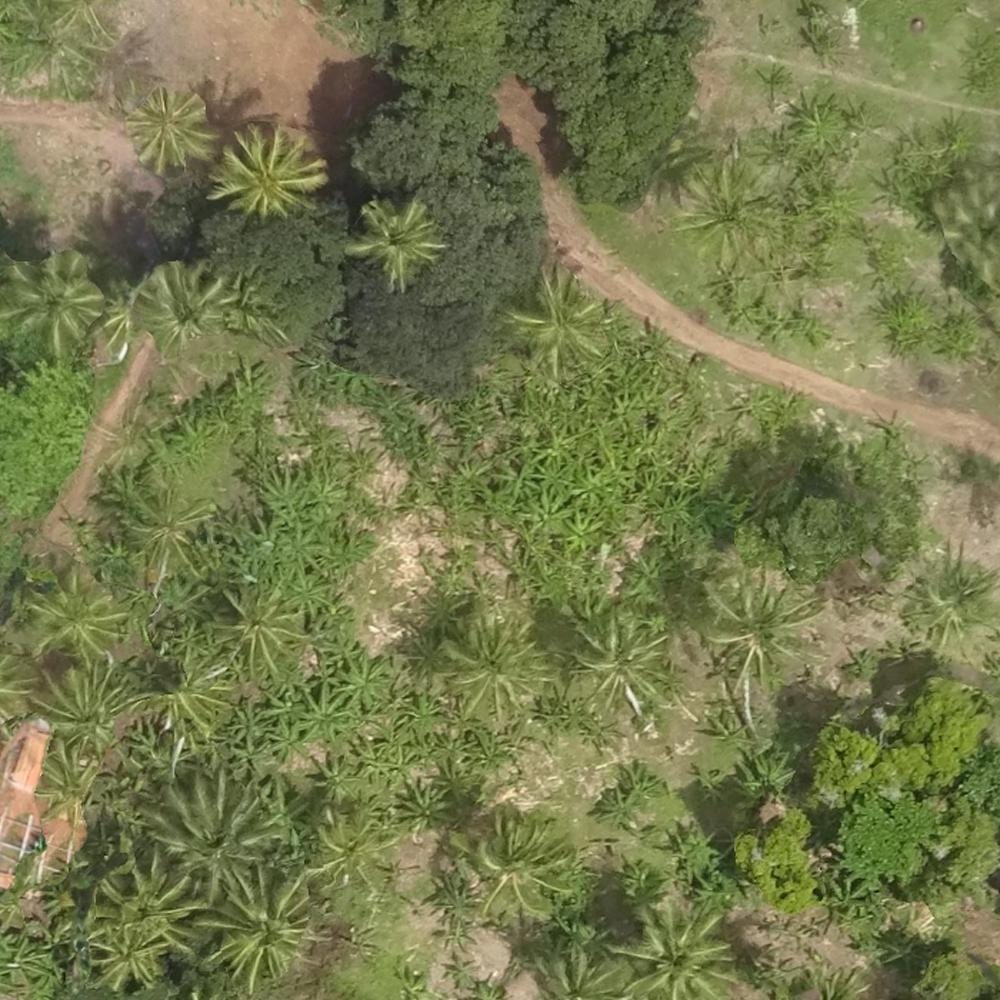Palm: (145, 773, 269, 895), (194, 874, 319, 985), (695, 574, 814, 683), (462, 814, 575, 924), (615, 900, 738, 998), (436, 612, 540, 718), (504, 264, 610, 366), (213, 121, 322, 214), (572, 612, 674, 709), (901, 548, 1000, 646), (3, 255, 104, 351), (31, 658, 131, 750), (217, 586, 311, 679), (25, 569, 122, 659), (133, 261, 227, 346), (349, 200, 444, 283), (121, 83, 214, 165), (86, 919, 166, 986)
